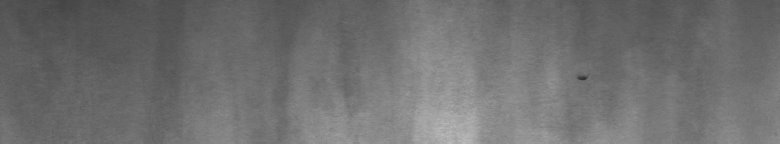fi: (576, 68, 591, 88)
